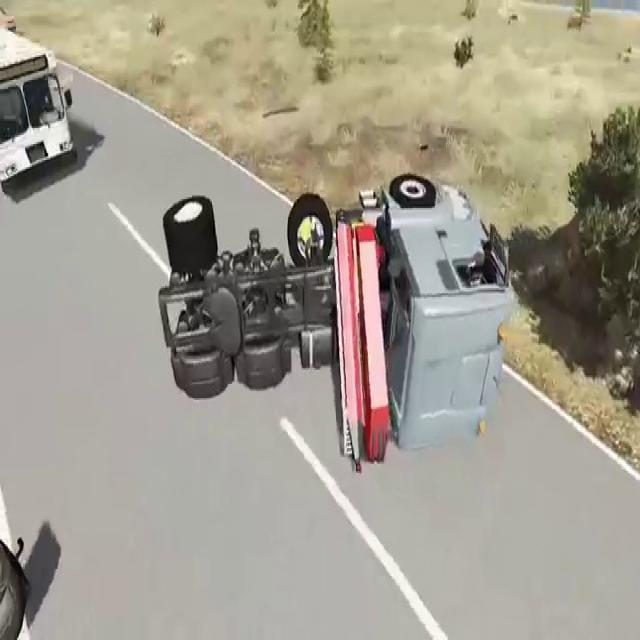accident: (155, 163, 513, 468)
